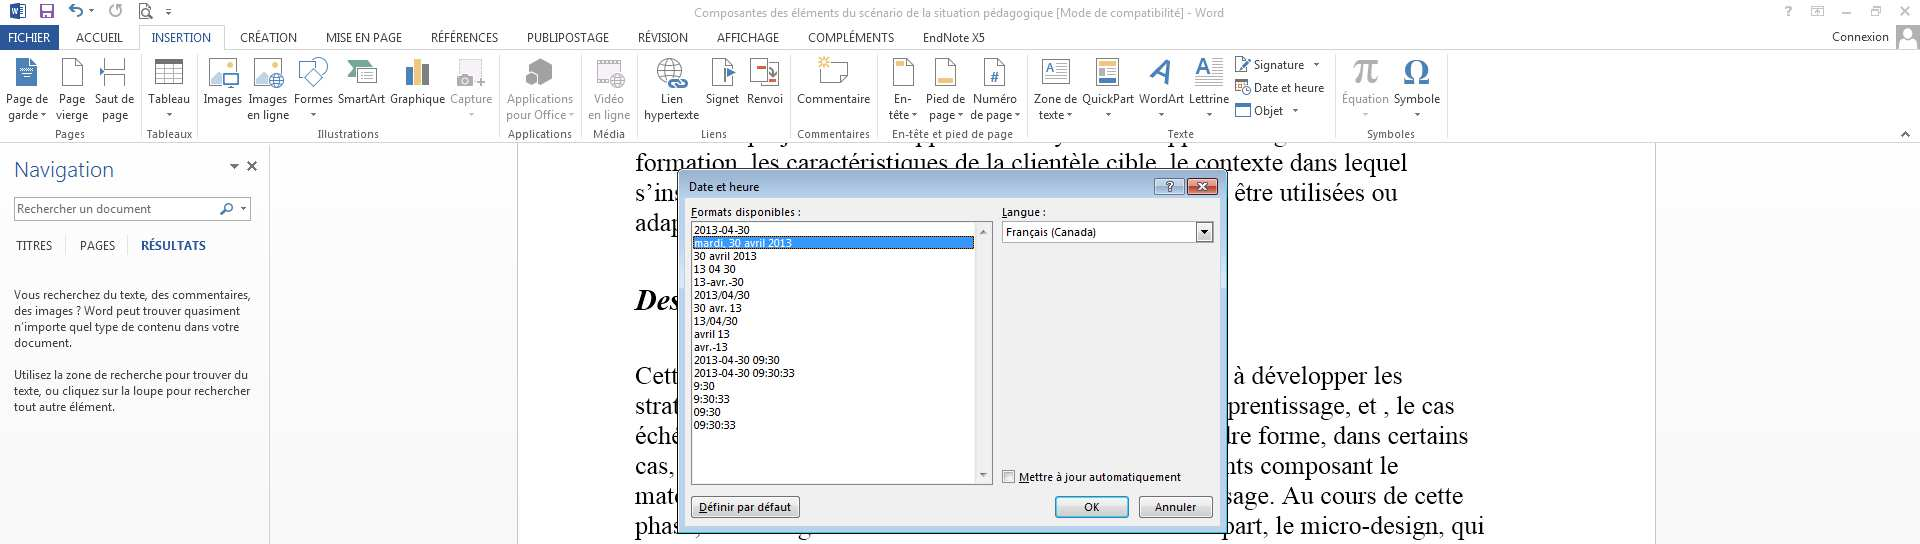texte: (156, 58, 377, 88), (1150, 56, 1319, 85), (1300, 516, 1442, 540), (16, 58, 125, 86), (1228, 396, 1349, 420), (16, 157, 113, 186), (1251, 366, 1367, 390), (1261, 458, 1373, 480), (407, 59, 482, 86), (711, 58, 779, 85), (893, 58, 956, 85), (1082, 94, 1229, 105), (393, 82, 444, 113), (1188, 78, 1233, 113), (1280, 183, 1364, 201), (81, 238, 204, 250), (1144, 78, 1187, 113), (1259, 426, 1325, 448), (1344, 153, 1407, 176), (1389, 426, 1468, 444), (1254, 78, 1324, 96), (356, 53, 380, 100), (62, 376, 97, 404), (893, 120, 927, 148), (1236, 103, 1297, 118), (1089, 473, 1180, 483), (698, 116, 726, 148), (1291, 153, 1337, 172), (636, 184, 684, 201), (1224, 518, 1267, 538), (1233, 156, 1283, 172), (1333, 426, 1380, 444), (1452, 516, 1484, 540), (1228, 493, 1273, 510), (1416, 488, 1463, 504), (173, 292, 250, 301), (809, 33, 894, 42), (18, 203, 92, 213), (528, 33, 609, 42), (1168, 120, 1193, 148), (1236, 183, 1272, 201), (645, 110, 699, 123), (327, 33, 402, 42), (1231, 67, 1249, 102), (736, 208, 800, 218), (798, 94, 869, 103), (798, 130, 869, 138), (185, 308, 240, 319), (1321, 493, 1376, 504), (509, 130, 571, 140), (1404, 60, 1429, 85), (971, 110, 1020, 123), (529, 59, 552, 85), (15, 323, 66, 334), (984, 58, 1005, 85), (432, 33, 497, 42), (1395, 94, 1440, 107), (1282, 486, 1314, 504), (97, 203, 151, 213), (718, 33, 779, 42), (924, 33, 984, 42), (152, 33, 211, 42), (320, 130, 378, 138), (1343, 94, 1389, 105), (7, 94, 48, 107), (249, 110, 289, 123), (636, 153, 662, 172), (44, 290, 100, 299), (1374, 366, 1402, 383), (241, 33, 296, 42), (195, 386, 250, 395), (1833, 32, 1888, 40), (249, 94, 287, 107), (9, 110, 47, 123), (15, 338, 69, 347), (696, 292, 749, 300), (696, 369, 749, 377), (1368, 130, 1414, 140), (204, 94, 241, 107), (973, 23, 989, 51), (1298, 78, 1324, 96), (111, 370, 162, 379), (1002, 208, 1044, 218), (1052, 228, 1095, 238), (639, 33, 687, 42), (707, 94, 740, 107), (694, 357, 749, 364), (76, 33, 122, 42), (1384, 486, 1407, 504), (691, 208, 731, 218), (1007, 228, 1047, 238), (339, 94, 384, 103), (147, 130, 192, 138), (1033, 94, 1078, 103), (1423, 402, 1453, 414), (973, 94, 1016, 103), (694, 317, 737, 326), (36, 309, 72, 319), (133, 386, 163, 398), (694, 278, 743, 285), (70, 402, 111, 410), (1100, 61, 1116, 83), (148, 94, 189, 103), (694, 265, 735, 273), (753, 369, 793, 377), (1357, 64, 1375, 82), (1380, 456, 1398, 474), (1276, 516, 1294, 534), (1283, 67, 1293, 102), (1019, 473, 1053, 483), (1371, 189, 1398, 201), (96, 94, 133, 103), (295, 94, 332, 103), (15, 370, 51, 379), (1397, 396, 1414, 414), (56, 113, 88, 123), (931, 113, 962, 123), (138, 323, 180, 331), (16, 241, 51, 250), (60, 94, 84, 107), (594, 129, 624, 138), (748, 94, 782, 103), (452, 96, 491, 103), (231, 161, 257, 172), (220, 203, 246, 214), (696, 330, 729, 338), (193, 371, 231, 379), (56, 130, 84, 140), (144, 308, 181, 315), (120, 292, 147, 301), (13, 387, 40, 397), (1293, 91, 1300, 126), (70, 322, 91, 334), (103, 113, 129, 123), (1359, 399, 1376, 414), (1236, 459, 1253, 474), (118, 308, 140, 319), (96, 323, 118, 334), (889, 110, 917, 119), (167, 388, 191, 398), (1040, 111, 1071, 119), (696, 343, 727, 350), (84, 306, 111, 315), (82, 197, 92, 221), (13, 290, 39, 299), (167, 372, 189, 382), (933, 120, 940, 148), (605, 111, 626, 121), (185, 322, 208, 331), (212, 323, 239, 331), (947, 130, 966, 140), (40, 403, 66, 410), (753, 357, 779, 364), (542, 97, 572, 103), (1898, 26, 1910, 40), (541, 110, 562, 119), (927, 94, 948, 103), (662, 94, 682, 103), (1234, 366, 1244, 383), (1002, 470, 1015, 483), (13, 403, 36, 410), (989, 132, 1011, 140), (1237, 433, 1251, 444), (1064, 475, 1086, 483), (70, 234, 76, 259), (66, 372, 91, 379), (152, 290, 169, 299), (15, 306, 32, 315), (895, 94, 911, 103), (602, 97, 623, 103), (580, 98, 584, 129), (104, 290, 116, 299), (235, 370, 247, 379), (122, 322, 133, 331), (96, 370, 107, 379), (694, 304, 705, 312), (730, 304, 741, 312), (103, 388, 118, 395), (709, 306, 724, 312), (1046, 62, 1054, 72), (955, 94, 965, 103), (973, 130, 983, 138), (694, 252, 705, 260), (47, 388, 58, 395), (55, 370, 62, 379), (589, 113, 599, 119), (122, 386, 129, 395), (1057, 472, 1060, 482), (525, 113, 530, 119), (1201, 230, 1209, 234), (167, 113, 171, 116), (311, 113, 316, 116), (1207, 113, 1212, 116), (1416, 113, 1420, 116), (1106, 113, 1111, 116), (1160, 113, 1164, 116), (1385, 412, 1389, 417), (78, 306, 81, 312), (980, 473, 986, 475)
